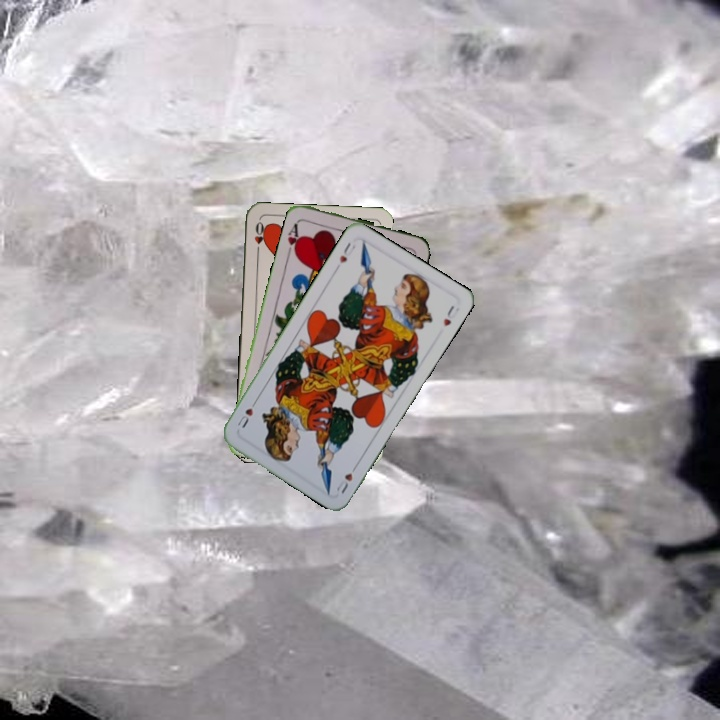HA: (283, 217, 304, 259)
HO: (250, 218, 267, 257)
HU: (332, 460, 360, 496), (335, 238, 358, 266)
